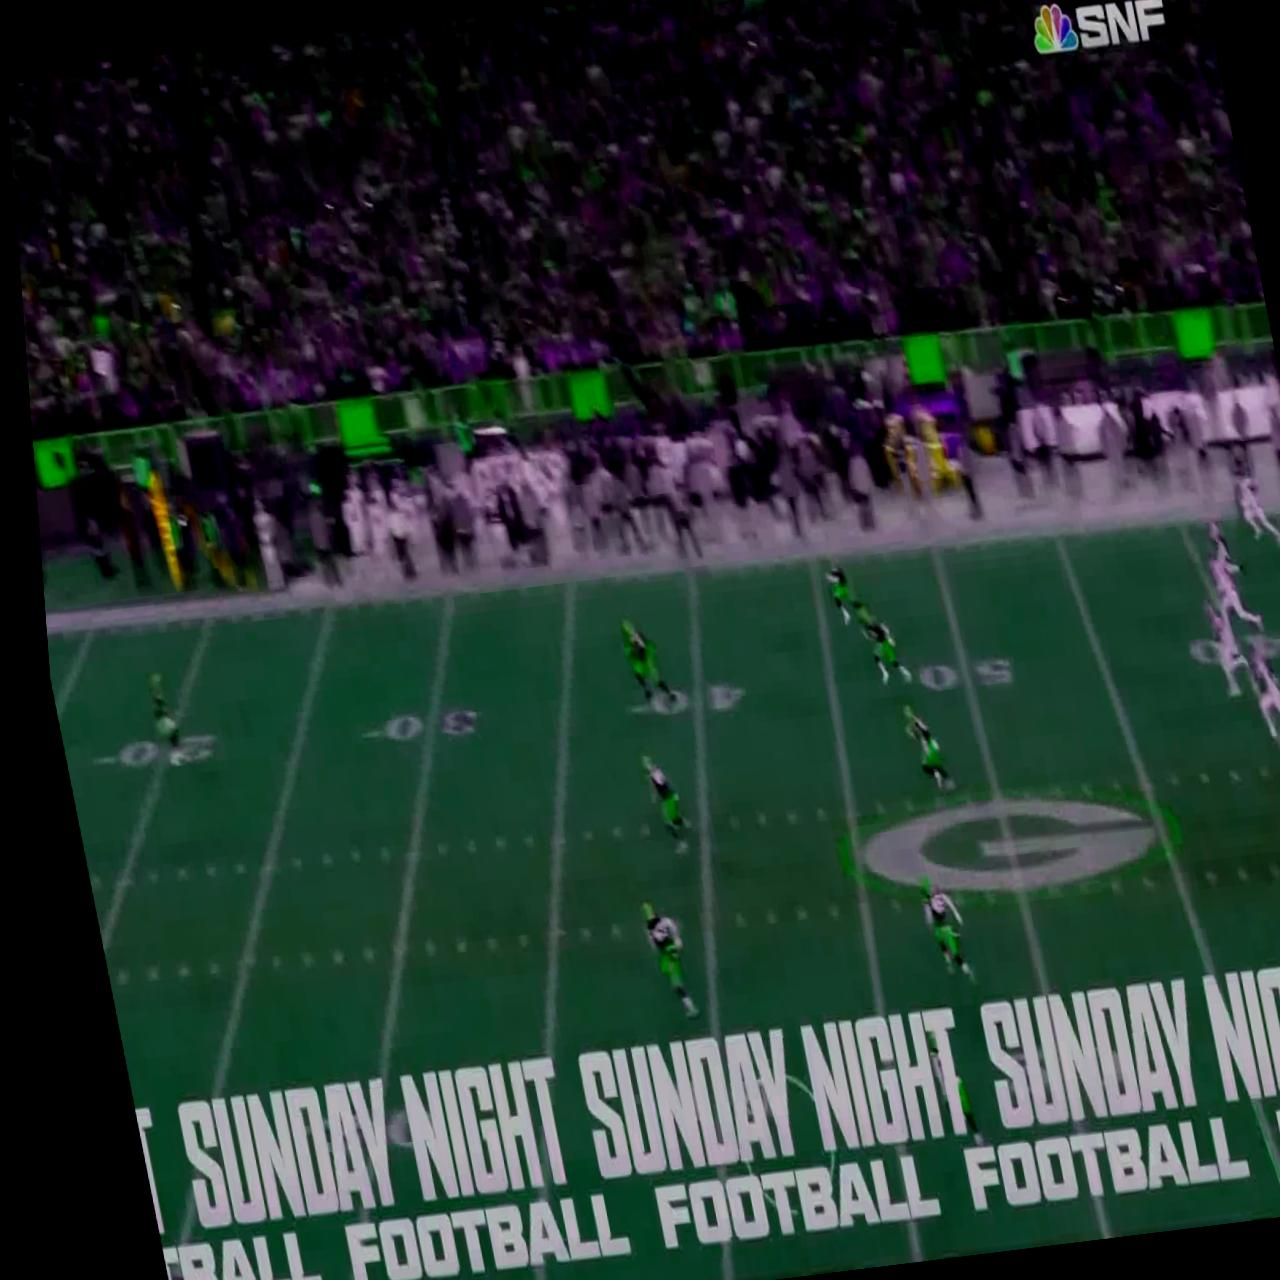20L: (80, 731, 211, 778)
30L: (345, 703, 475, 749)
40L: (612, 680, 740, 722)
40R: (1176, 622, 1280, 673)
50: (907, 653, 1007, 694)
